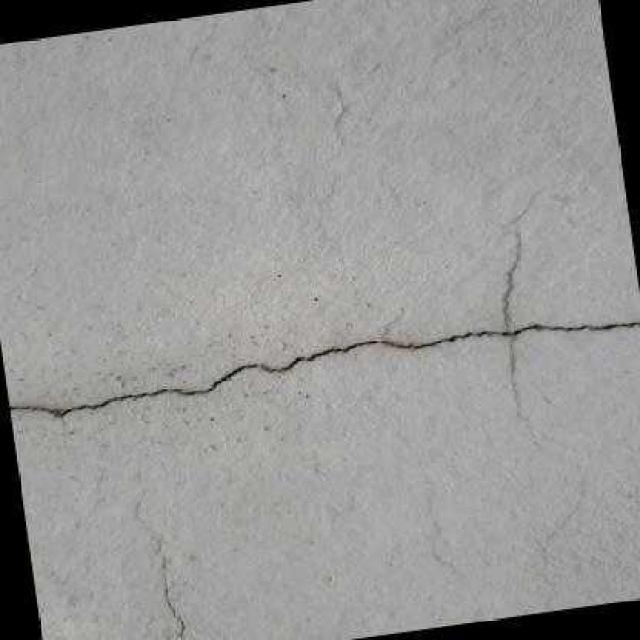D00: (8, 316, 640, 414)
